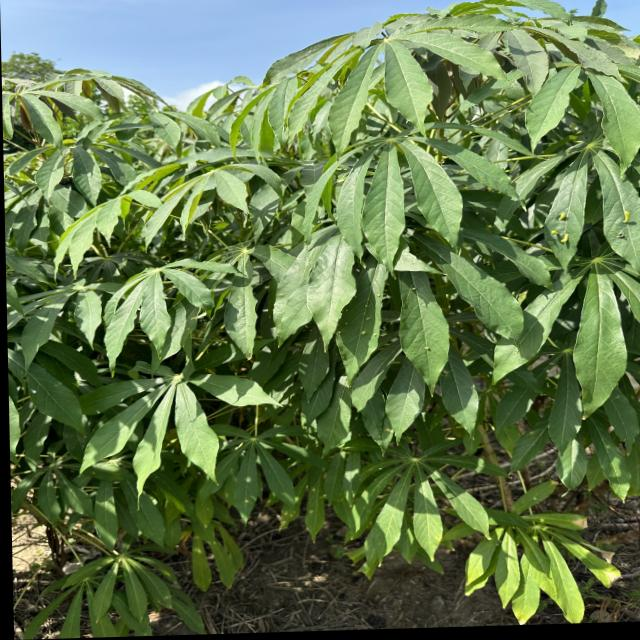Mosca: (545, 207, 574, 252), (353, 323, 383, 341), (405, 279, 423, 296), (619, 203, 632, 225), (422, 343, 440, 357)
